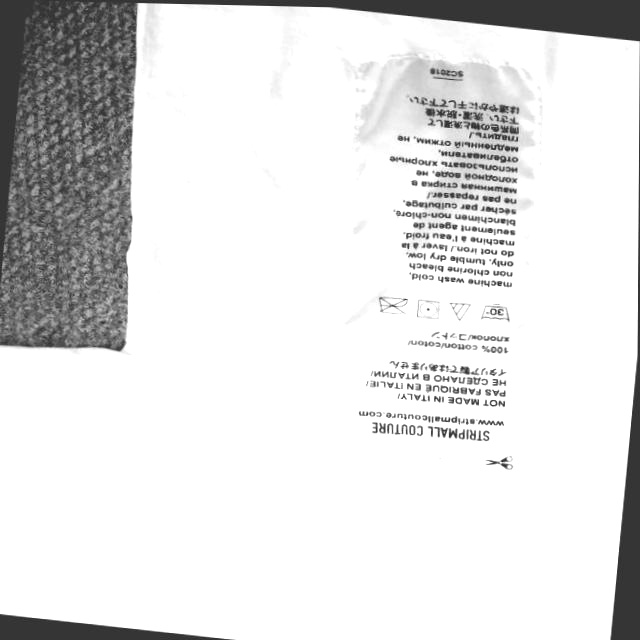30C: (479, 302, 514, 322)
DN_iron: (373, 294, 408, 319)
non_chlorine_bleach: (448, 300, 473, 321)
tumble_dry_low: (414, 298, 446, 319)
